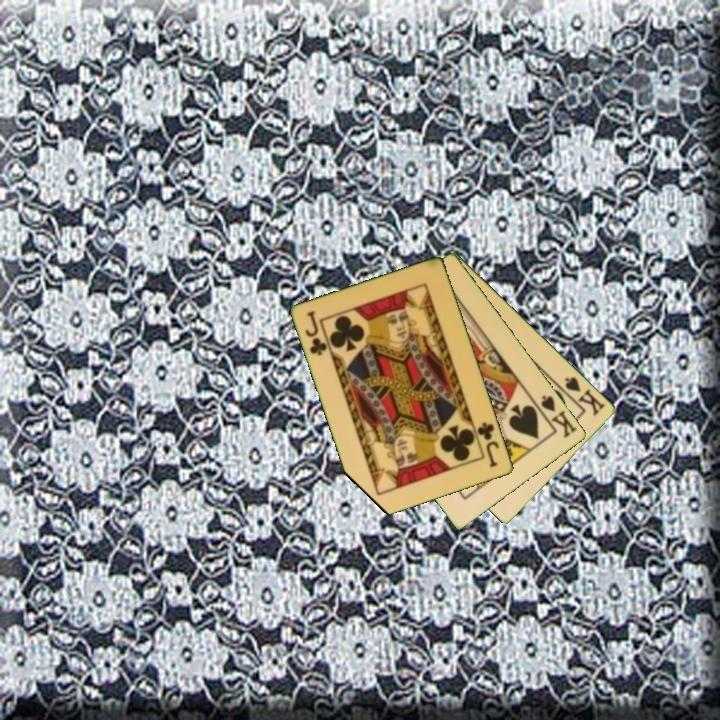Jc: (474, 418, 502, 470), (302, 307, 330, 359)
Ks: (556, 373, 608, 419), (538, 392, 581, 441)
